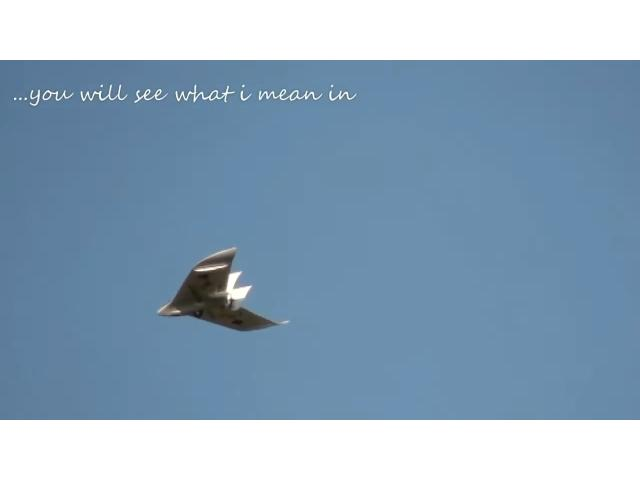Anti-Drone: (156, 248, 284, 332)
